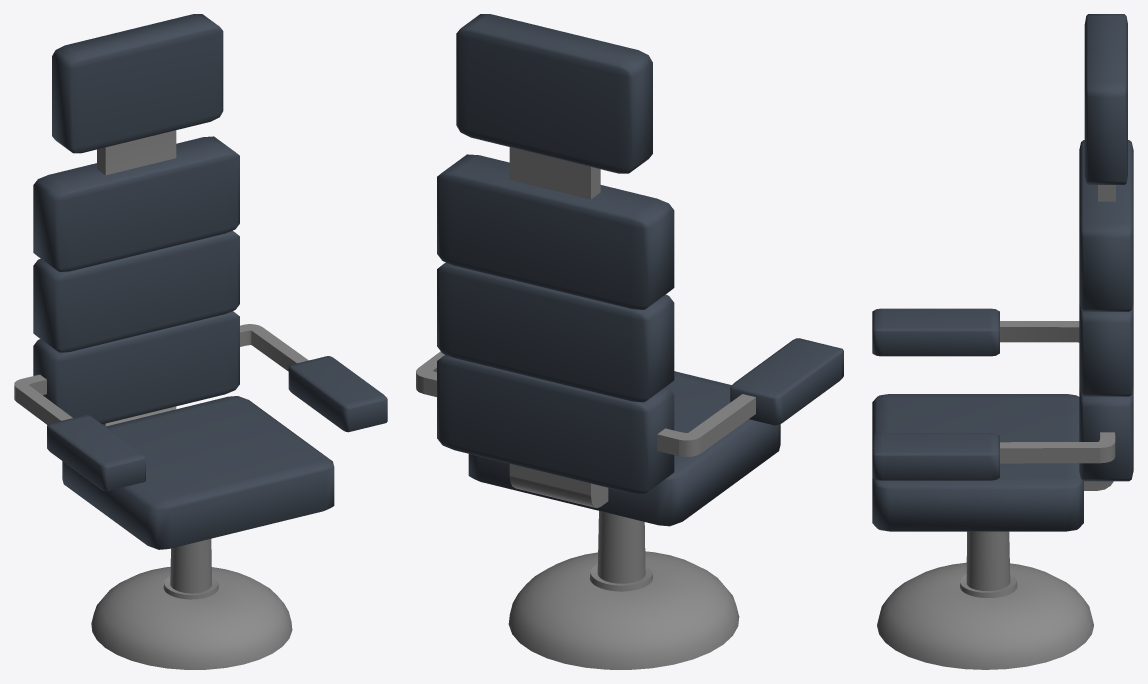
Rendered from silla_nave.fbx.
3 renders of one model, left to right at view 1: azimuth 30°, elevation 25°; view 2: azimuth 150°, elevation 25°; view 3: azimuth 270°, elevation 25°, orthographic. The views are drawn at different scales.
Visible parts, largest first — view 1: Cube, Circle, Cube.001, Cube.002, Cube.003; view 2: Cube, Circle, Cube.001, Cube.002, Cube.003; view 3: Cube, Circle, Cube.003, Cube.002, Cube.001.
Part boxes in pixels (left/top/right/bottom): Cube: left=33, top=14, right=387, bottom=549; Circle: left=91, top=539, right=292, bottom=669; Cube.001: left=97, top=130, right=176, bottom=426; Cube.002: left=14, top=374, right=72, bottom=424; Cube.003: left=240, top=324, right=308, bottom=371; Cube: left=437, top=14, right=843, bottom=526; Circle: left=508, top=511, right=739, bottom=669; Cube.001: left=509, top=147, right=608, bottom=507; Cube.002: left=657, top=394, right=755, bottom=456; Cube.003: left=416, top=351, right=444, bottom=396; Cube: left=872, top=14, right=1133, bottom=531; Circle: left=877, top=531, right=1093, bottom=669; Cube.003: left=1000, top=432, right=1115, bottom=463; Cube.002: left=1000, top=321, right=1079, bottom=342; Cube.001: left=1084, top=185, right=1115, bottom=490.
Size of the model in its own units: 370 by 678 by 278.
